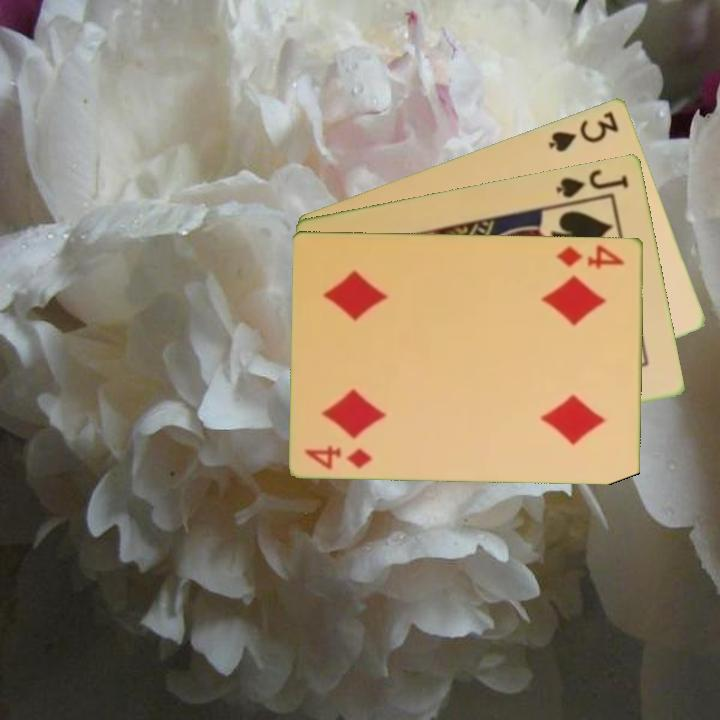3s: (545, 107, 622, 155)
4d: (301, 441, 375, 472), (553, 241, 628, 271)
Js: (552, 165, 632, 200)
